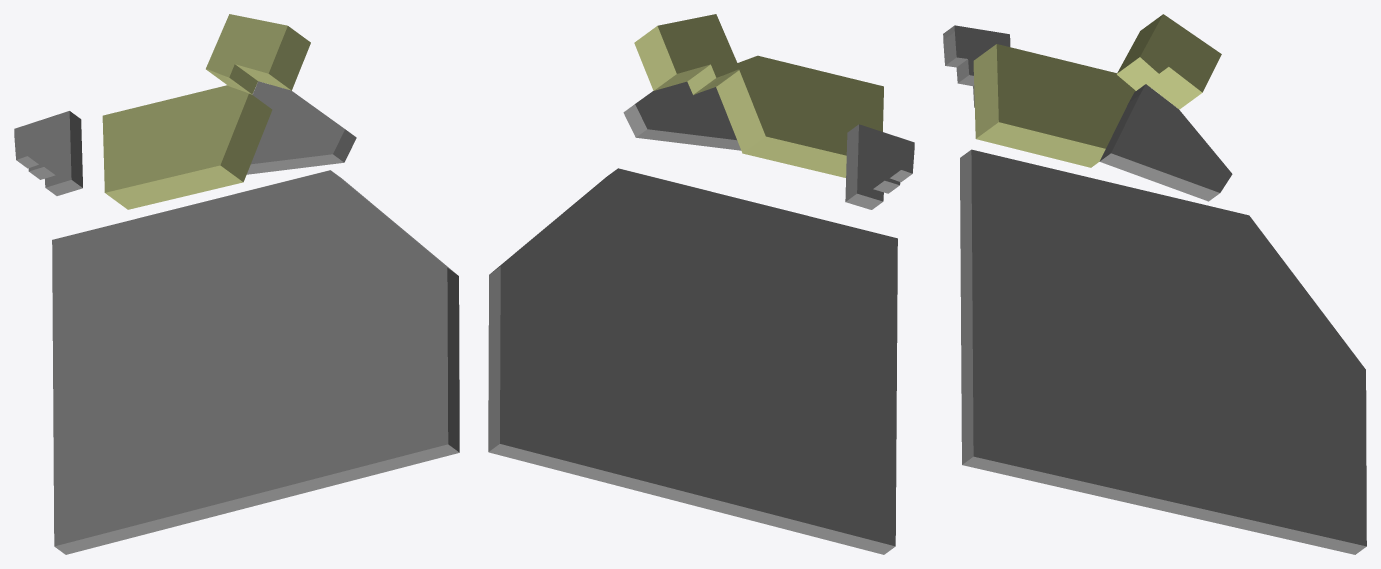
3 renders of one model, left to right at view 1: azimuth 30°, elevation 25°; view 2: azimuth 150°, elevation 25°; view 3: azimuth 330°, elevation 25°, orthographic.
Visible parts, largest first — view 1: 0_3_2_3_1_1_2_2; view 2: 0_3_2_3_1_1_2_2; view 3: 0_3_2_3_1_1_2_2.
Part boxes in pixels (bbox=[...]): 0_3_2_3_1_1_2_2: bbox=[14, 14, 459, 554]; 0_3_2_3_1_1_2_2: bbox=[488, 14, 914, 554]; 0_3_2_3_1_1_2_2: bbox=[943, 14, 1366, 554].
Bounding box in the file's own units: 63.2 × 68.81 × 12.
